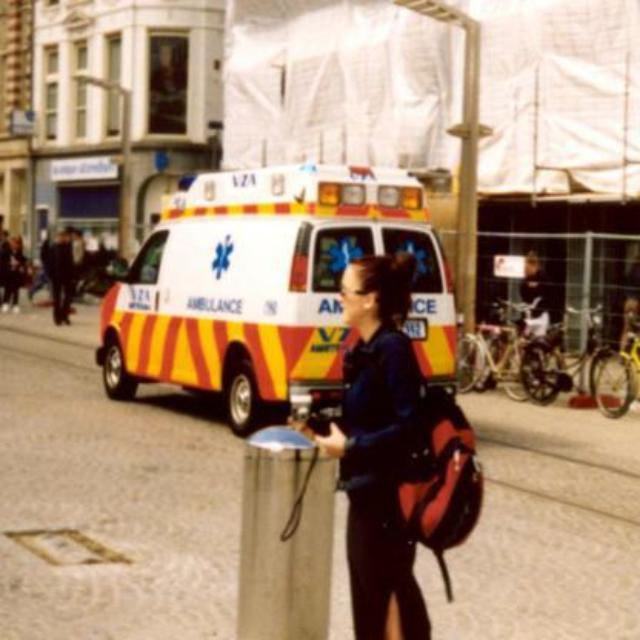emergency-vehicle: (93, 164, 467, 438)
